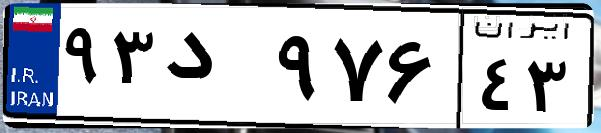3: (525, 38, 570, 115), (110, 28, 158, 98)
4: (475, 38, 525, 113)
6: (385, 28, 445, 110)
7: (330, 28, 385, 110)
9: (270, 28, 330, 110), (57, 26, 110, 100)
د: (158, 20, 270, 120)
